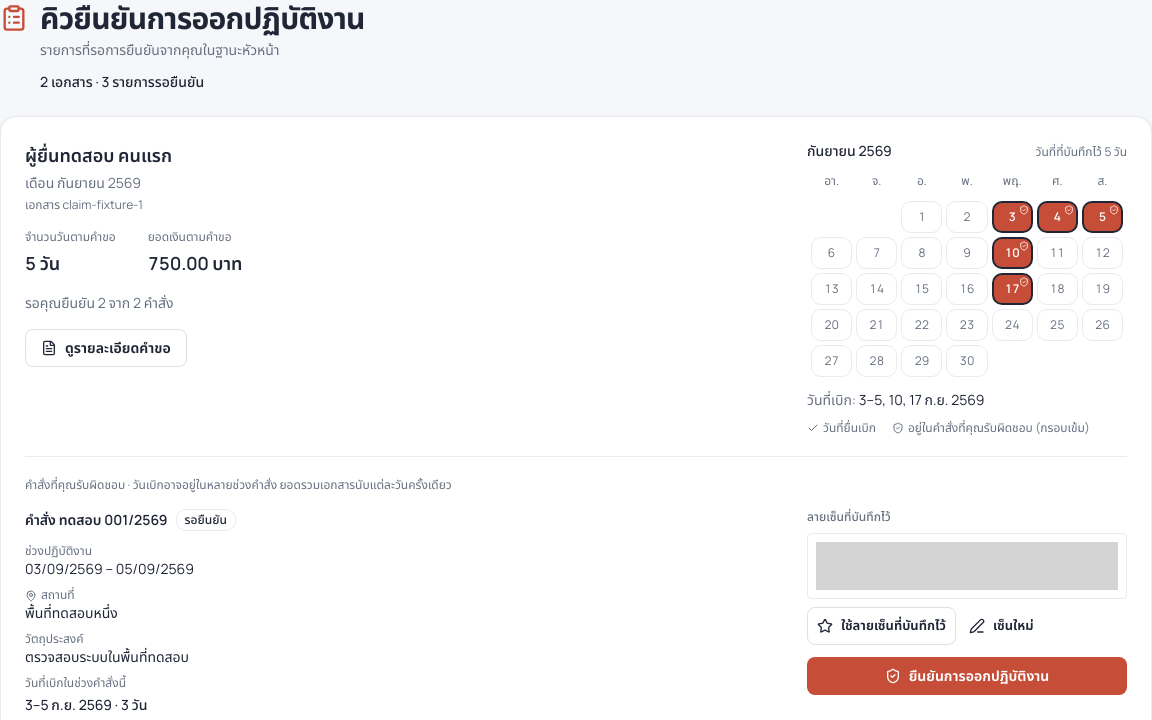
Test: leader queue document review › shows a detail error and retries without leaving the queue
Click the button "ดูรายละเอียดคำขอ": point(106, 348) top-left (25, 329), bottom-right (187, 367)
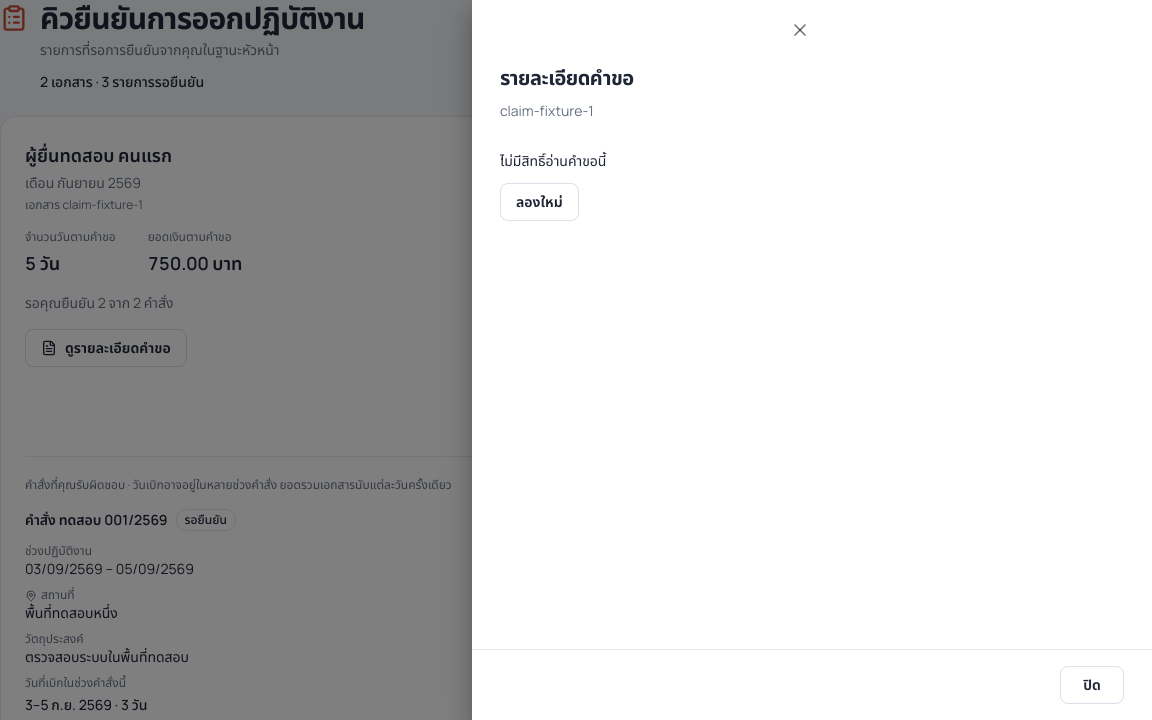
expect the text "ไม่มีสิทธิ์อ่านคำขอนี้" is shown: met, box top-left (500, 151), bottom-right (606, 170)
Click the button "ลองใหม่": point(539, 202) top-left (500, 183), bottom-right (579, 221)
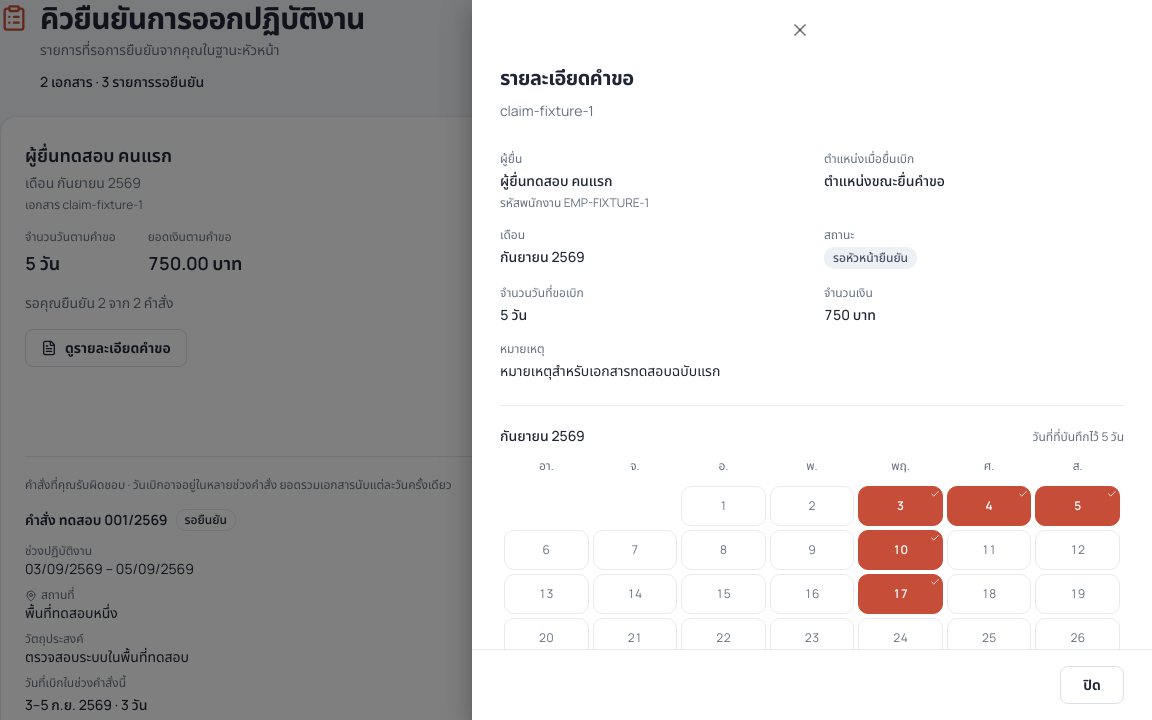
expect the text "หมายเหตุสำหรับเอกสารทดสอบฉบับแรก" is shown: met, box top-left (500, 361), bottom-right (720, 380)
